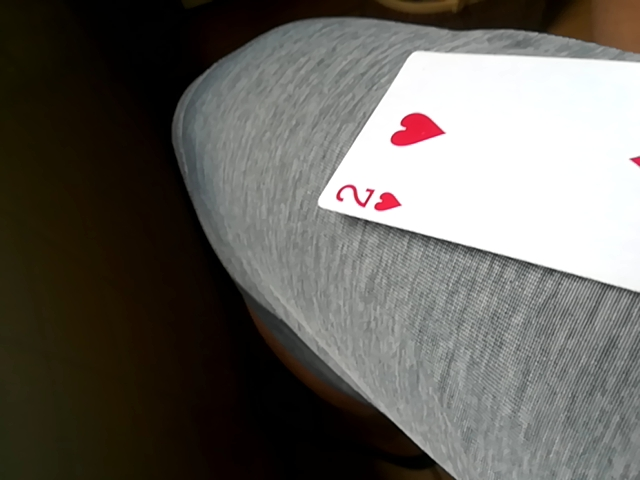hx 2: (316, 48, 640, 298)
